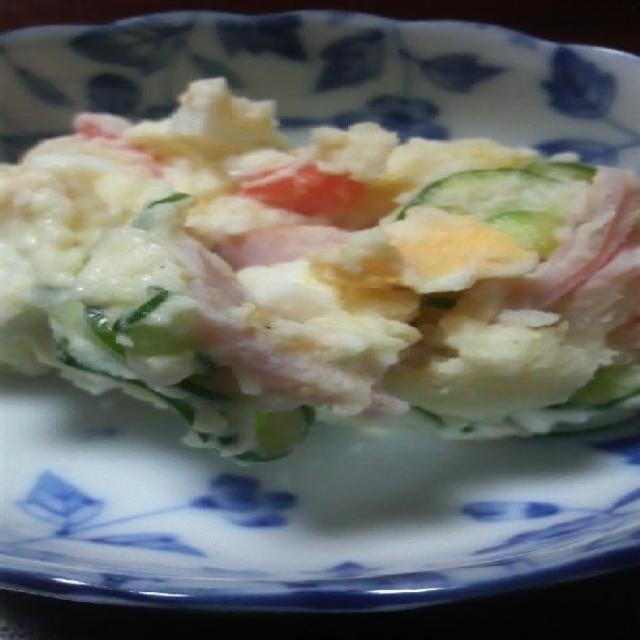蔬菜料理: (0, 1, 640, 618)
